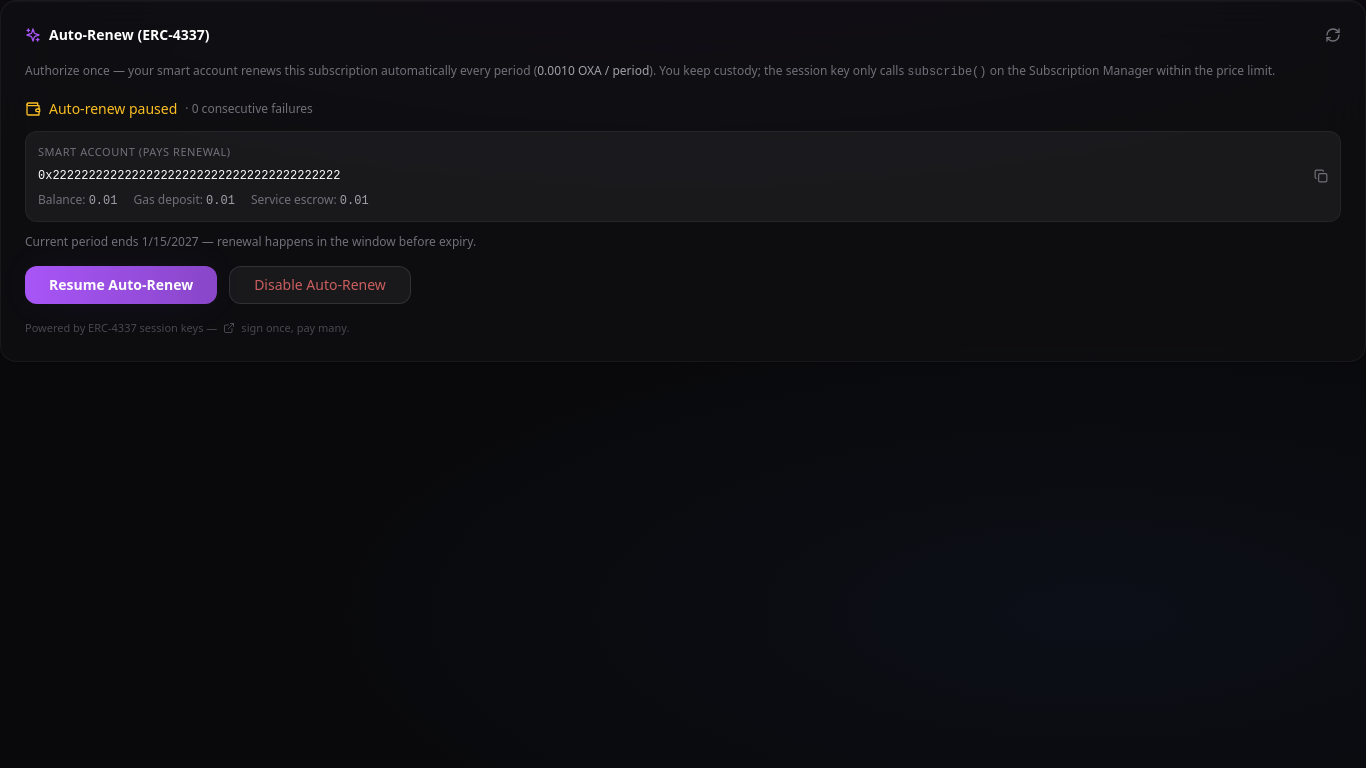
Scenario: resume — 暂停恢复 › resume 失败（网关 404）→ 回到 paused 并展示错误
The width and height of the screenshot is (1366, 768).
Click the button "Resume Auto-Renew" at (121, 285), box [25,266,217,304]
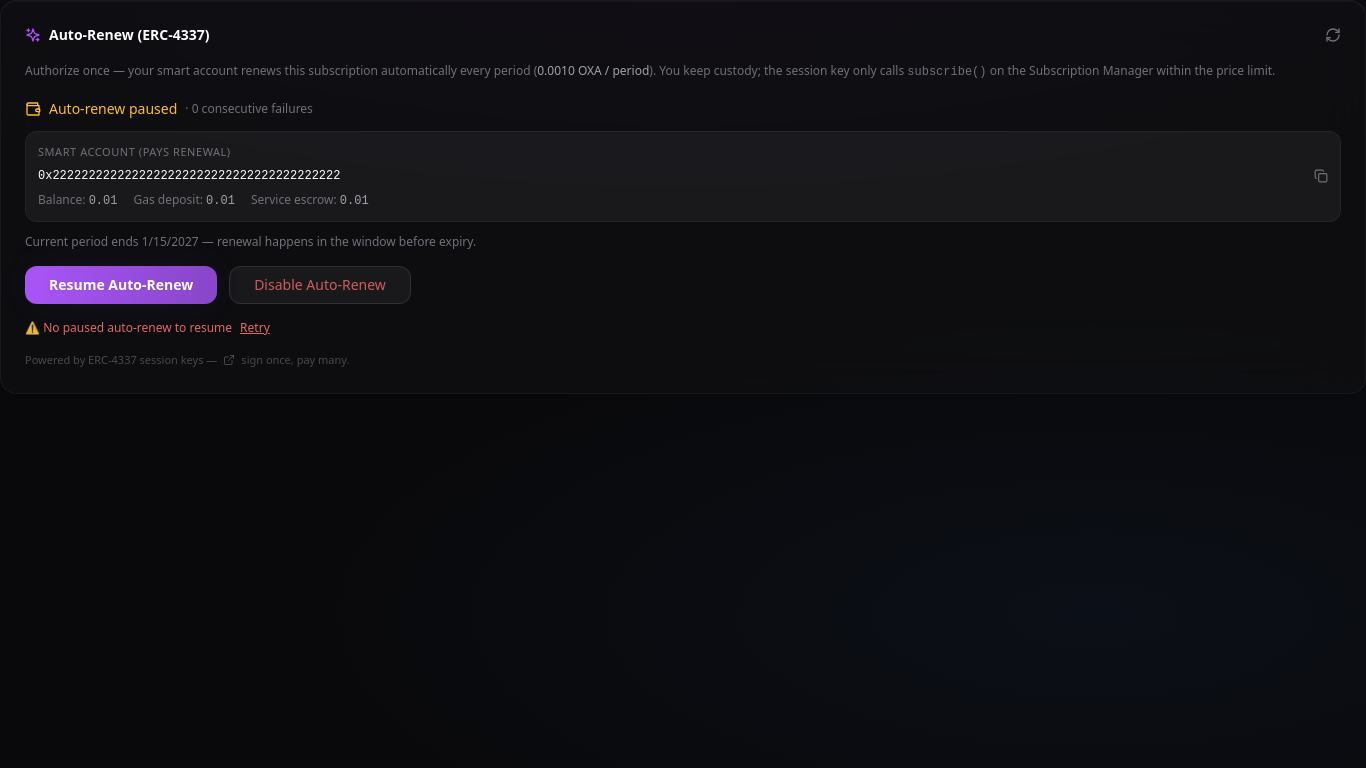
expect the text "⚠ No paused auto-renew to resume" is shown: met, box [25,320,232,336]
